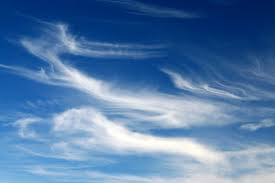Cirrus: (23, 23, 273, 133), (37, 106, 227, 181)
